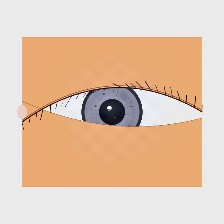pinguecula_lesion: (39, 95, 86, 132)
